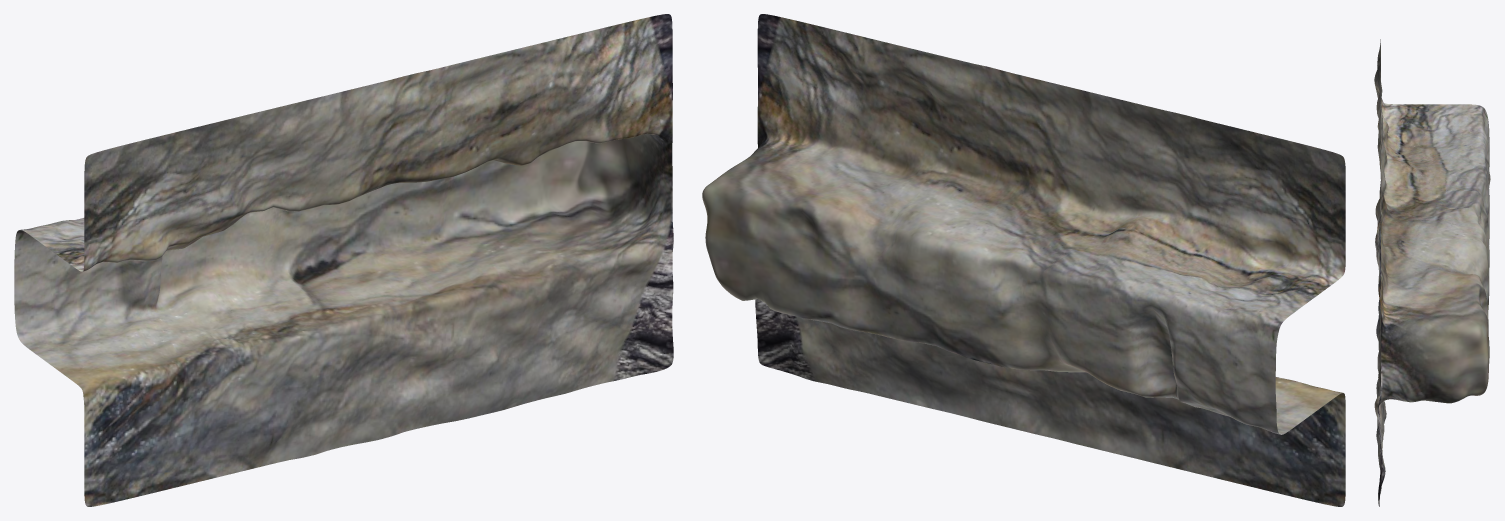
File: ParedeDaMina.fbx
3 views of the same model, side by side, from view 1: azimuth 30°, elevation 25°; view 2: azimuth 150°, elevation 25°; view 3: azimuth 270°, elevation 25° (orthographic). The views are drawn at different scales.
Parts seen in each view (by area): view 1: Mina; view 2: Mina; view 3: Mina.
Boxes of the visible parts, x1,y1,x2,y2 form: Mina: [14, 14, 673, 506]; Mina: [702, 14, 1345, 506]; Mina: [1374, 39, 1490, 506].
Size of the model in its own units: 3463 by 2001 by 761.
